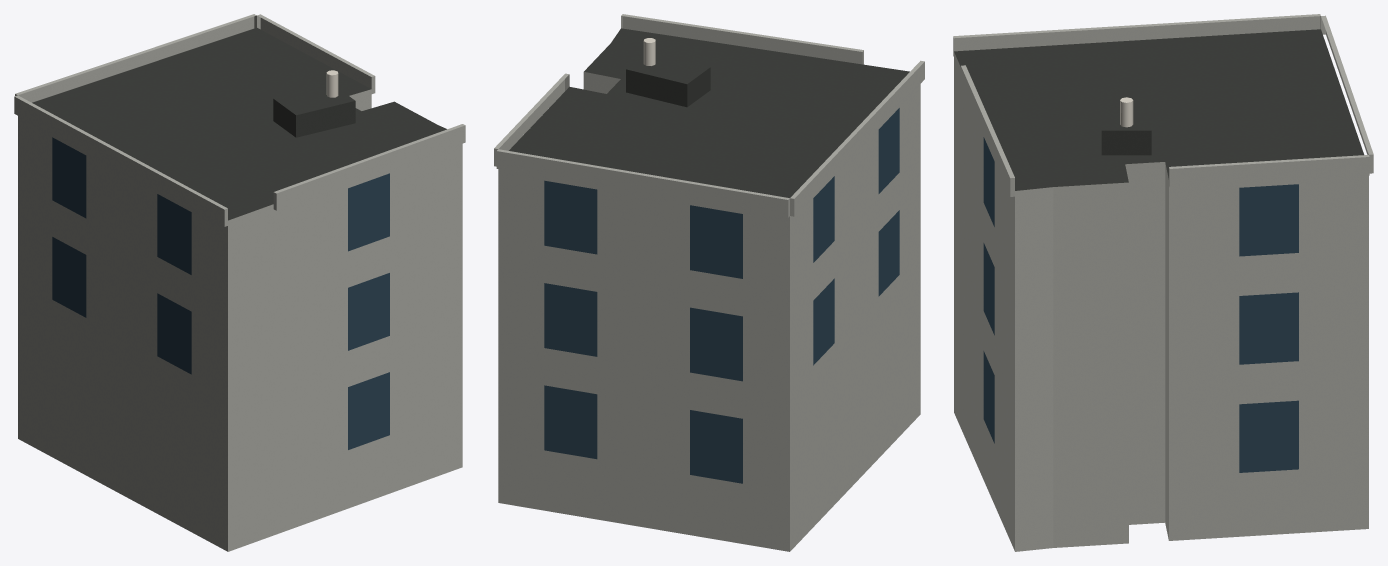
3 views of the same model, side by side, from view 1: azimuth 30°, elevation 25°; view 2: azimuth 150°, elevation 25°; view 3: azimuth 270°, elevation 25° (orthographic). The views are drawn at different scales.
Visible parts, largest first — view 1: Footprint 0 / surface 2, Footprint 0 / surface 1, Inset glazing, Facade bay volumes, Inferred rooftop service enclosure / surface 5, Inferred rooftop service enclosure / surface 3; view 2: Footprint 0 / surface 2, Footprint 0 / surface 1, Inset glazing, Facade bay volumes, Inferred rooftop service enclosure / surface 6, Inferred rooftop service enclosure / surface 3, Inferred rooftop service enclosure / surface 2; view 3: Footprint 0 / surface 2, Footprint 0 / surface 1, Inset glazing, Facade bay volumes, Inferred rooftop service enclosure / surface 1, Inferred rooftop service enclosure / surface 3.
Boxes of the visible parts, x1,y1,x2,y2 form: Footprint 0 / surface 2: (18, 89, 462, 551); Footprint 0 / surface 1: (32, 27, 446, 220); Inset glazing: (52, 137, 389, 449); Facade bay volumes: (14, 14, 465, 226); Inferred rooftop service enclosure / surface 5: (296, 101, 355, 137); Inferred rooftop service enclosure / surface 3: (273, 85, 355, 115); Footprint 0 / surface 2: (498, 72, 920, 551); Footprint 0 / surface 1: (509, 28, 909, 197); Inset glazing: (544, 108, 899, 483); Facade bay volumes: (494, 14, 924, 217); Inferred rooftop service enclosure / surface 6: (626, 69, 687, 107); Inferred rooftop service enclosure / surface 3: (626, 53, 710, 83); Inferred rooftop service enclosure / surface 2: (687, 67, 710, 106); Footprint 0 / surface 2: (954, 52, 1368, 551); Footprint 0 / surface 1: (954, 29, 1364, 190); Inset glazing: (983, 137, 1298, 472); Facade bay volumes: (953, 14, 1373, 196); Inferred rooftop service enclosure / surface 1: (1101, 130, 1151, 155); Inferred rooftop service enclosure / surface 3: (1101, 99, 1151, 130).
Bounding box in the file's own units: 9.36 × 10.89 × 10.13.
